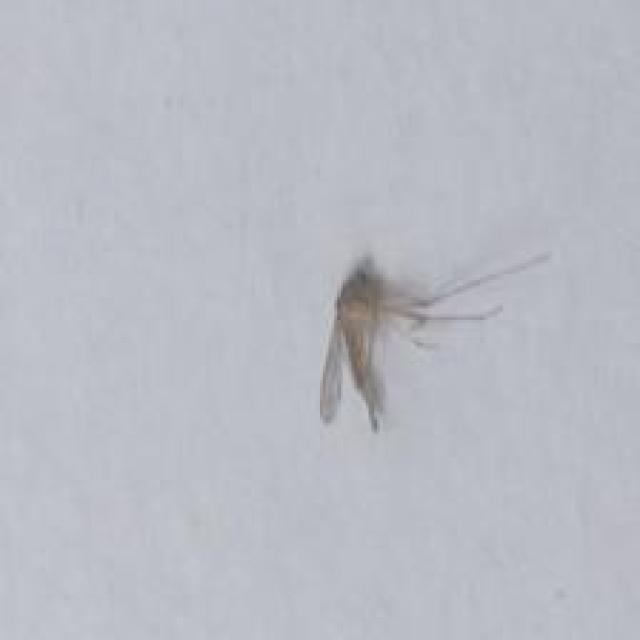Culex: (317, 247, 552, 433)
